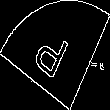P_SW: (33, 24, 77, 86)
